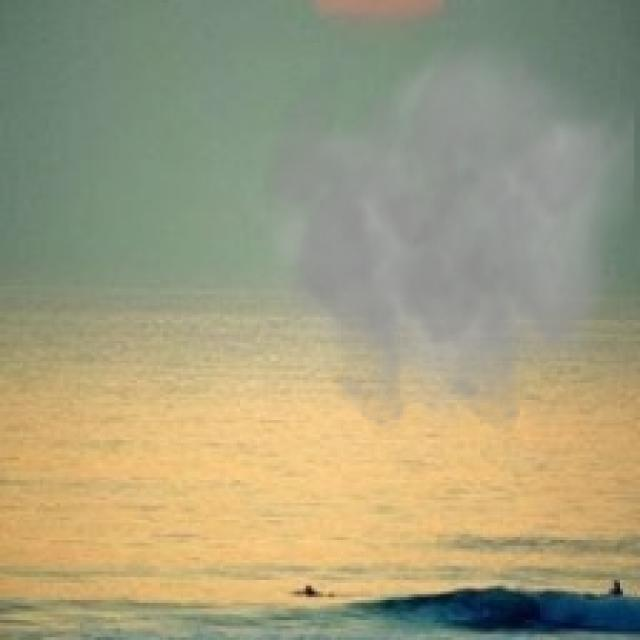smoke: (229, 29, 634, 437)
